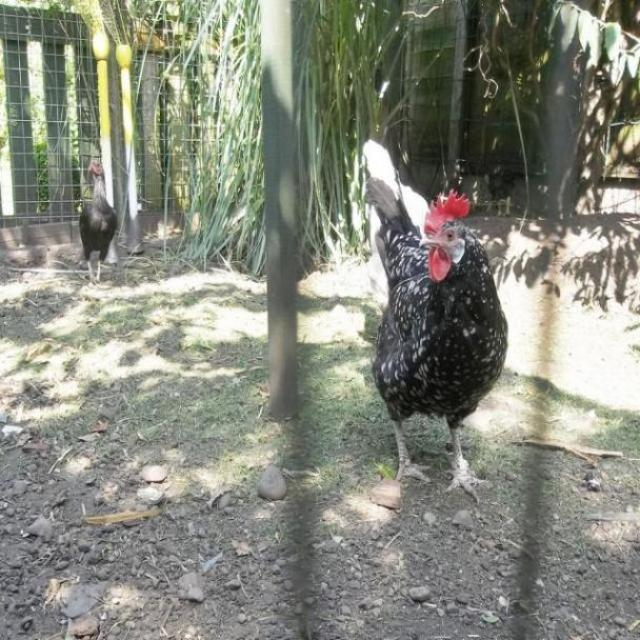Chicken: (378, 168, 515, 505), (78, 154, 122, 285)
